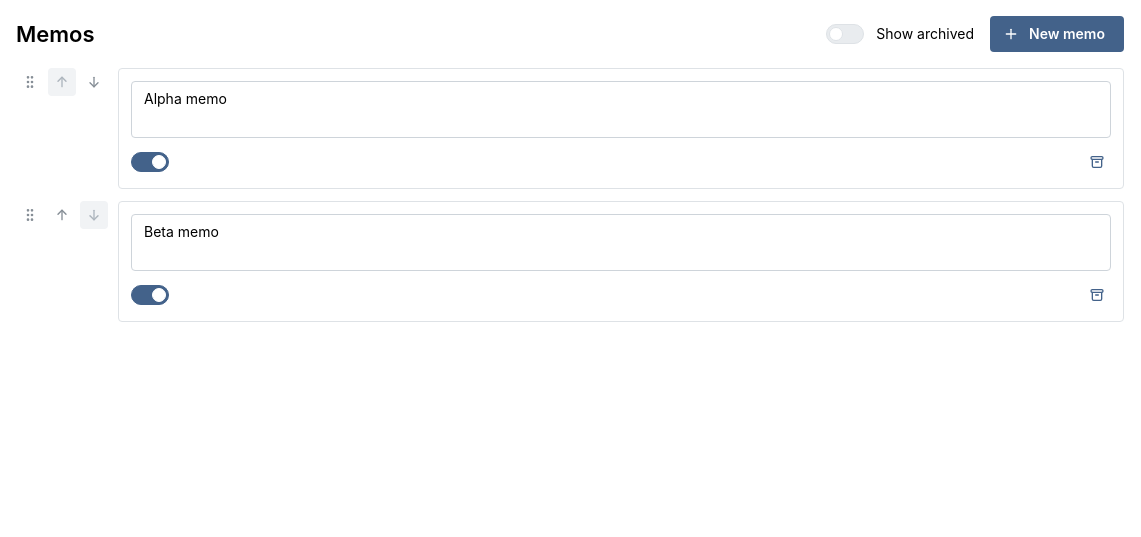
Test: the archive axis (DoD-11, DoD-12, DoD-13) › DoD-12 (US-128.AC-2): revealing the archived memos and restoring one returns it to the working list, last
This screenshot has width=1141, height=537.
Expected: the text box named "Memo 1 body" is shown, [131,81,1111,138]
Expected: the field showing "Retired memo" is not shown
Step 1. Click the 1st switch labelled "Show archived" → coordinates (900, 34), box [826,24,974,44]
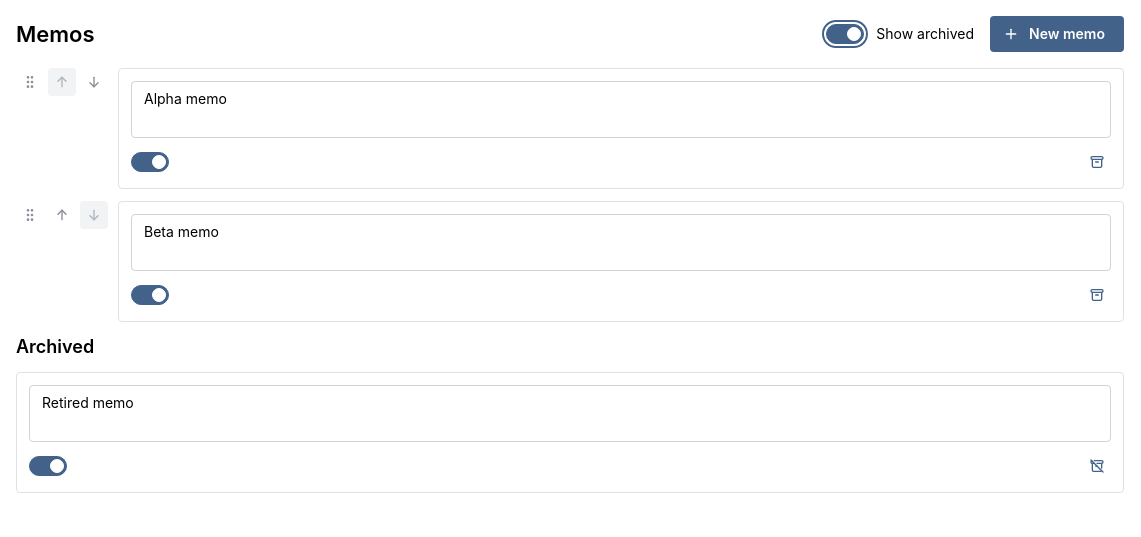
Now the 2nd text box showing "Retired memo" is shown, box [29,385,1111,442]
Step 2. Click the button named "Restore memo 1" → coordinates (1097, 466), box [1083,452,1111,480]
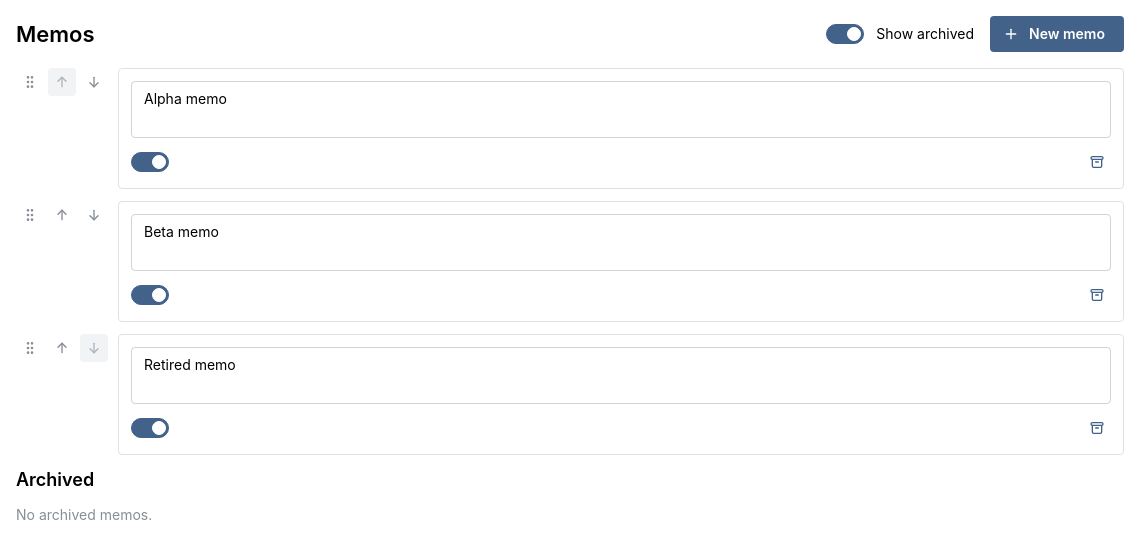
Now the button named "Archive memo 3" is shown, box [1083,414,1111,442]
